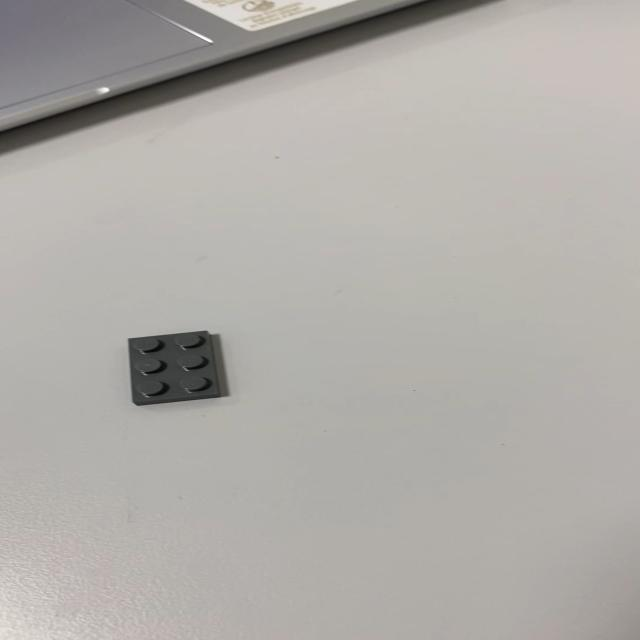C3x2x0: (125, 330, 222, 406)
